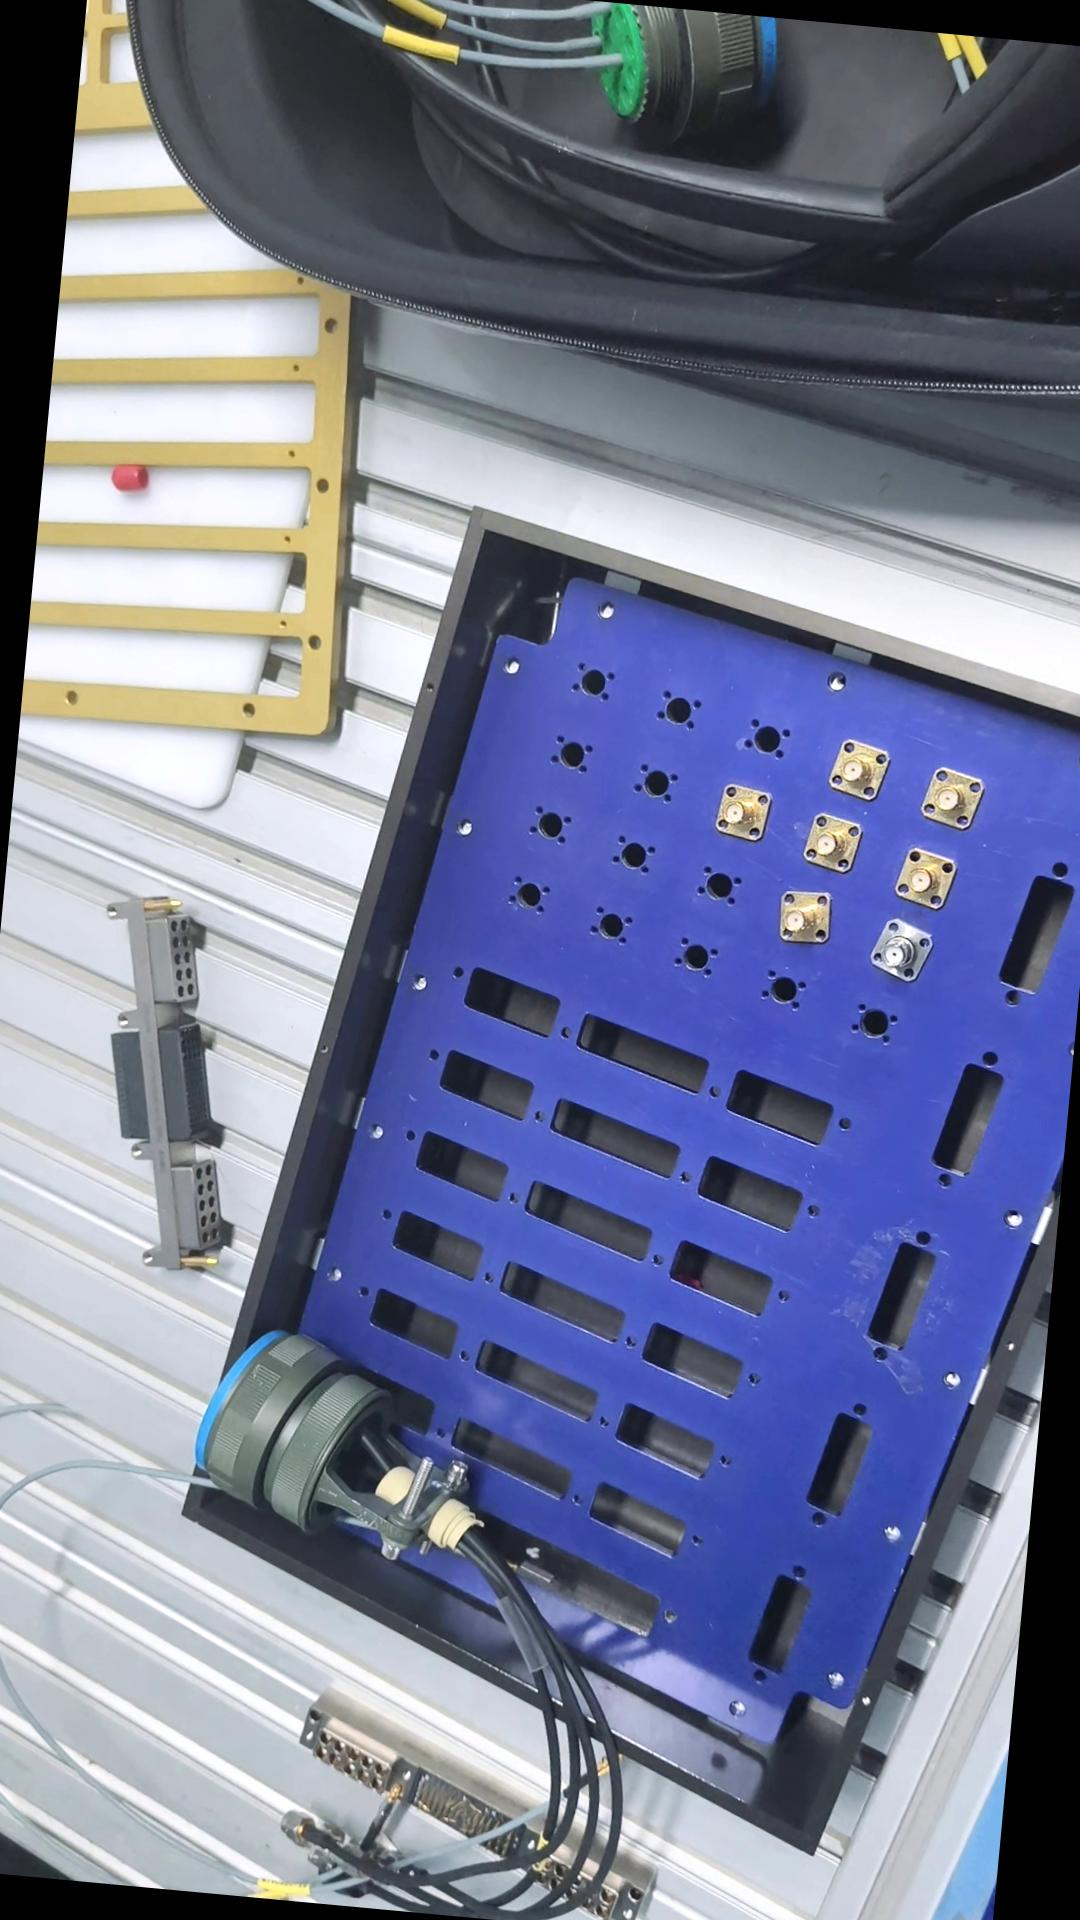SMA: (913, 764, 986, 829), (819, 737, 891, 803), (765, 884, 833, 949), (889, 851, 956, 913), (705, 779, 774, 840), (866, 916, 930, 978), (798, 814, 858, 874)
